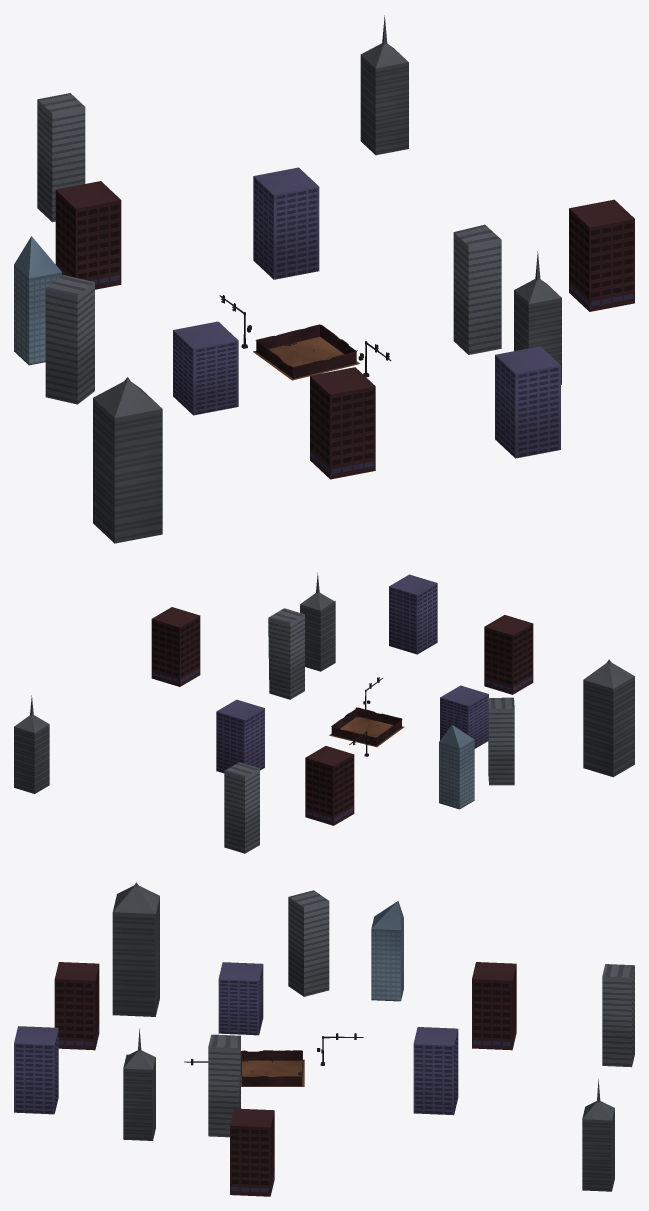
The model's file is level.glb.
The picture shows the model from 3 angles, top to bottom: view 1: azimuth 30°, elevation 25°; view 2: azimuth 150°, elevation 25°; view 3: azimuth 270°, elevation 25°; orthographic projection. The views are drawn at different scales.
Visible parts, largest first — view 1: Cube; view 2: Cube; view 3: Cube.
Boxes of the visible parts, x1,y1,x2,y2 form: Cube: (14,15,634,543); Cube: (14,572,634,853); Cube: (14,882,634,1196).
Size of the model in its own units: 112 by 31.95 by 124.
Materials: 1 (1 with a texture image).
